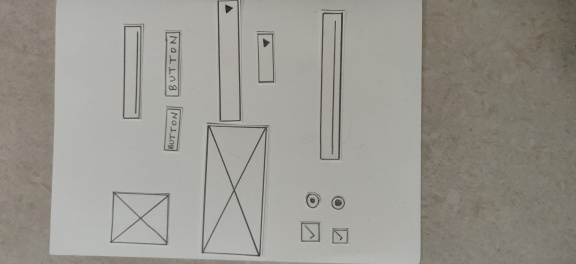button: (163, 28, 182, 100), (163, 105, 182, 153)
checkbox: (299, 218, 322, 244), (330, 226, 350, 246)
dropdown: (214, 1, 245, 122), (255, 28, 277, 86)
img: (199, 122, 269, 258), (108, 190, 173, 248)
radio: (304, 191, 321, 209), (329, 194, 345, 211)
text: (319, 8, 345, 161), (121, 24, 144, 121)
